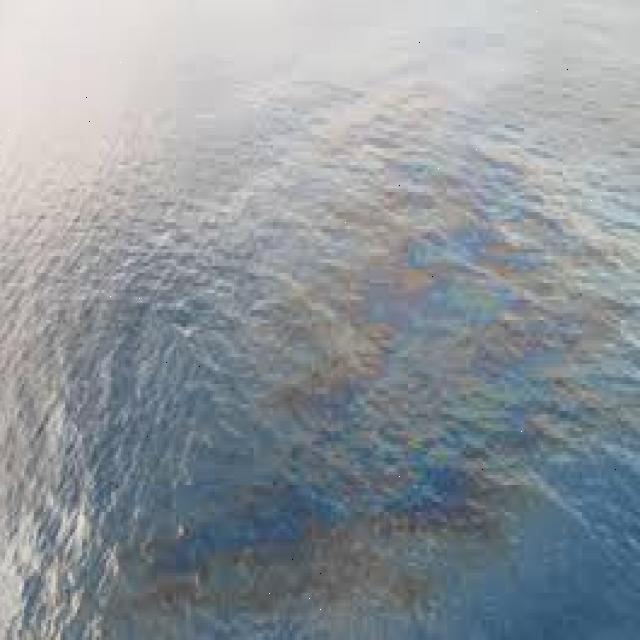oil: (345, 128, 591, 605)
